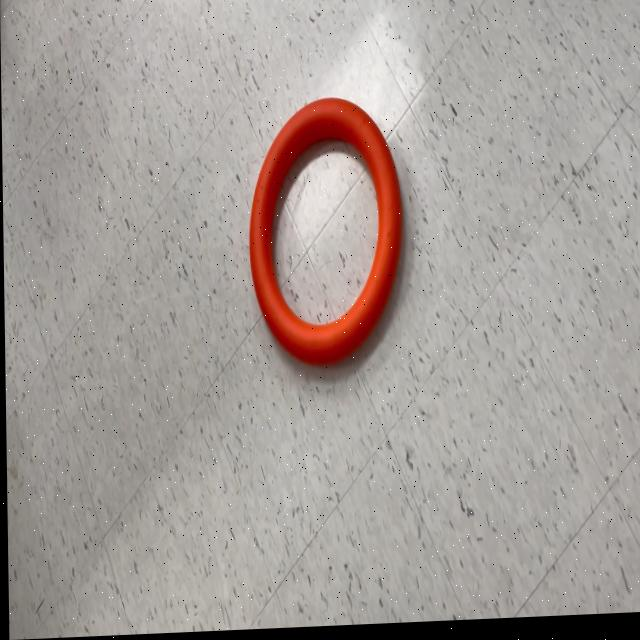note: (246, 98, 405, 376)
